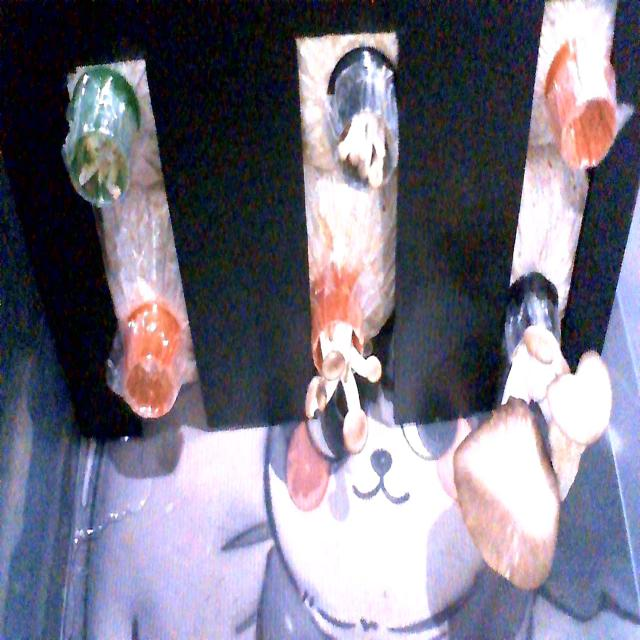big: (449, 333, 616, 591)
nfound: (104, 307, 200, 432), (562, 81, 624, 189), (63, 116, 135, 204)
small: (306, 308, 398, 457), (327, 91, 411, 197)
